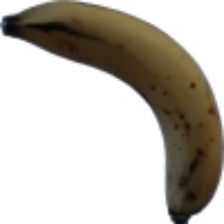banana: (37, 56, 222, 200)
